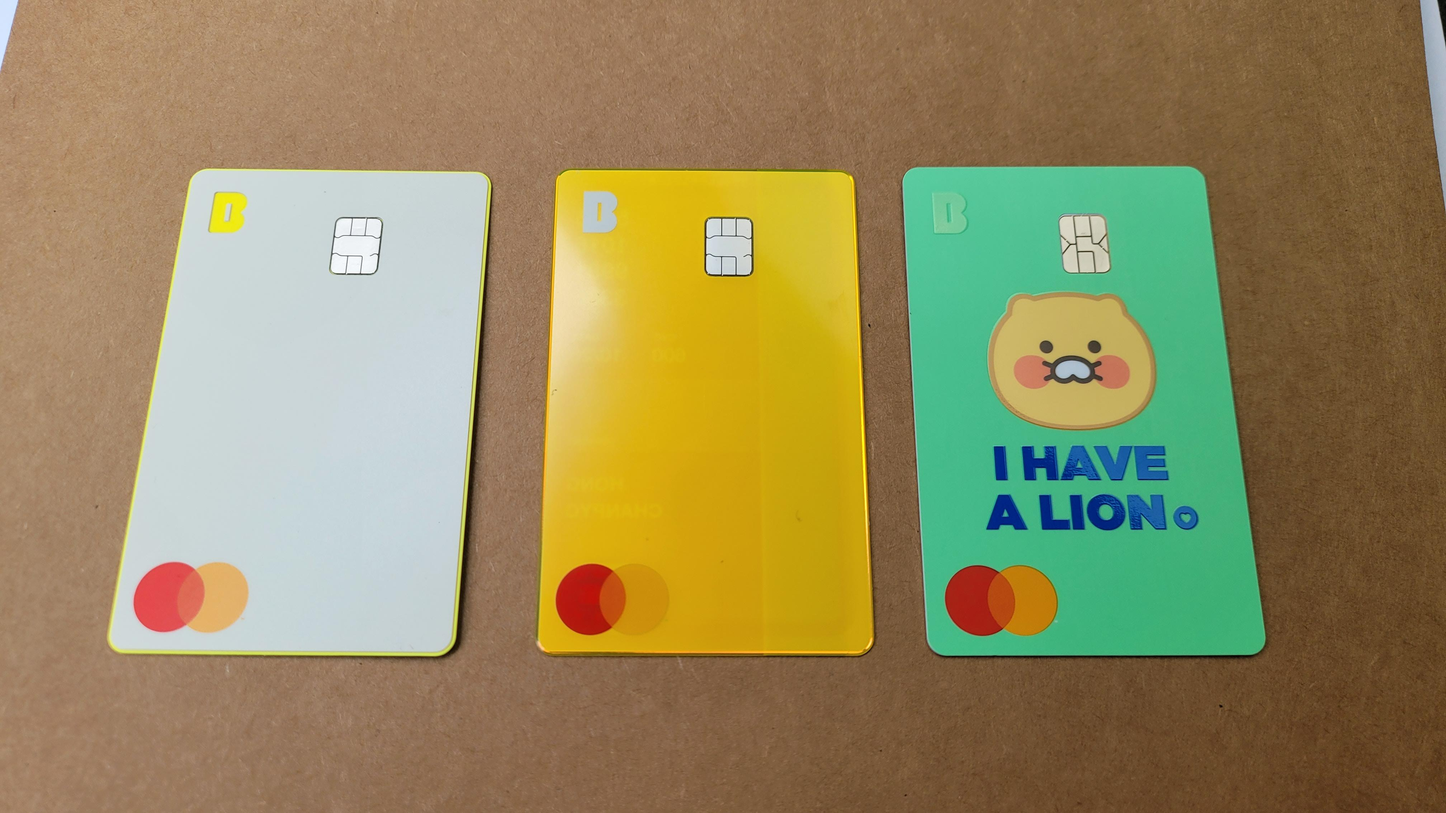Credit_card: (109, 169, 490, 656), (903, 167, 1265, 656), (538, 170, 873, 655)
